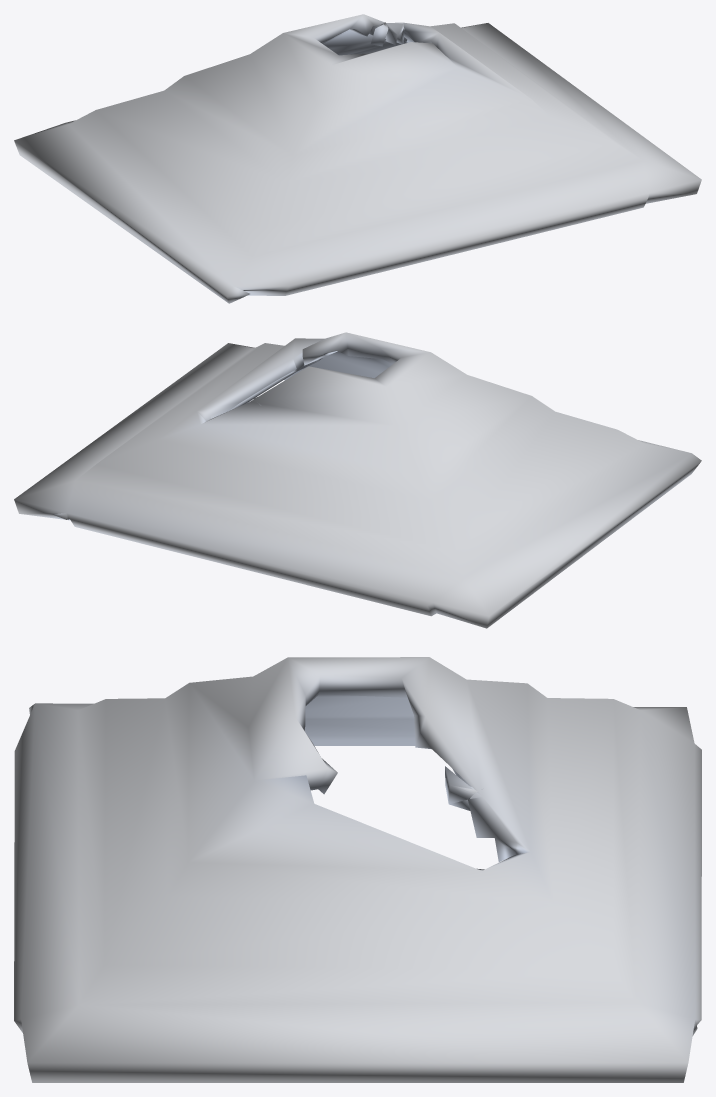
The model's file is protocol.lifi.snow.glb.
The picture shows the model from 3 angles, top to bottom: view 1: azimuth 30°, elevation 25°; view 2: azimuth 150°, elevation 25°; view 3: azimuth 270°, elevation 25°; orthographic projection. The views are drawn at different scales.
Parts seen in each view (by area): view 1: building.protocol.lifi.snow.mesh; view 2: building.protocol.lifi.snow.mesh; view 3: building.protocol.lifi.snow.mesh.
Boxes of the visible parts, x1=… form: building.protocol.lifi.snow.mesh: x1=14, y1=14, x2=701, y2=303; building.protocol.lifi.snow.mesh: x1=14, y1=332, x2=701, y2=628; building.protocol.lifi.snow.mesh: x1=14, y1=657, x2=701, y2=1082.
Size of the model in its own units: 1.93 by 0.5443 by 1.57.
